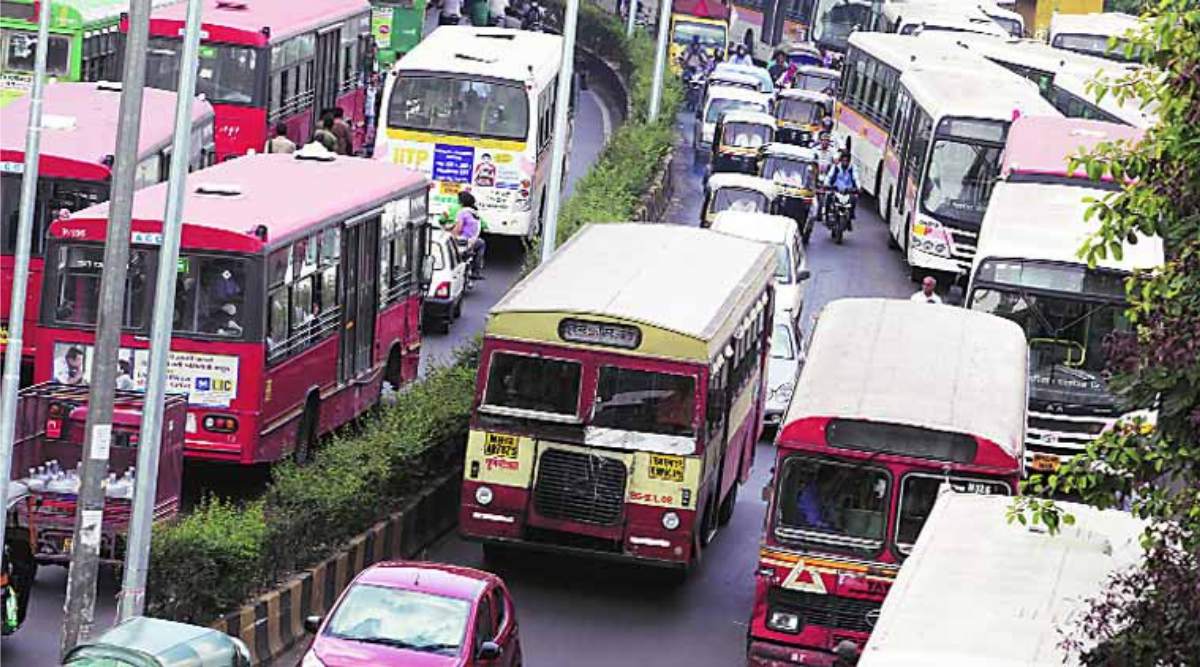bike: (826, 149, 865, 242), (446, 194, 494, 266), (675, 32, 708, 96)
bus: (52, 153, 432, 464), (464, 236, 780, 560), (753, 310, 1027, 661), (983, 179, 1172, 462), (394, 28, 576, 220), (1, 93, 213, 231), (184, 4, 367, 131), (878, 68, 994, 256), (2, 4, 102, 87)
car: (320, 548, 529, 667)
rickshaw: (73, 609, 258, 667), (749, 132, 827, 240), (714, 108, 778, 180), (702, 164, 774, 220), (778, 76, 837, 139)
